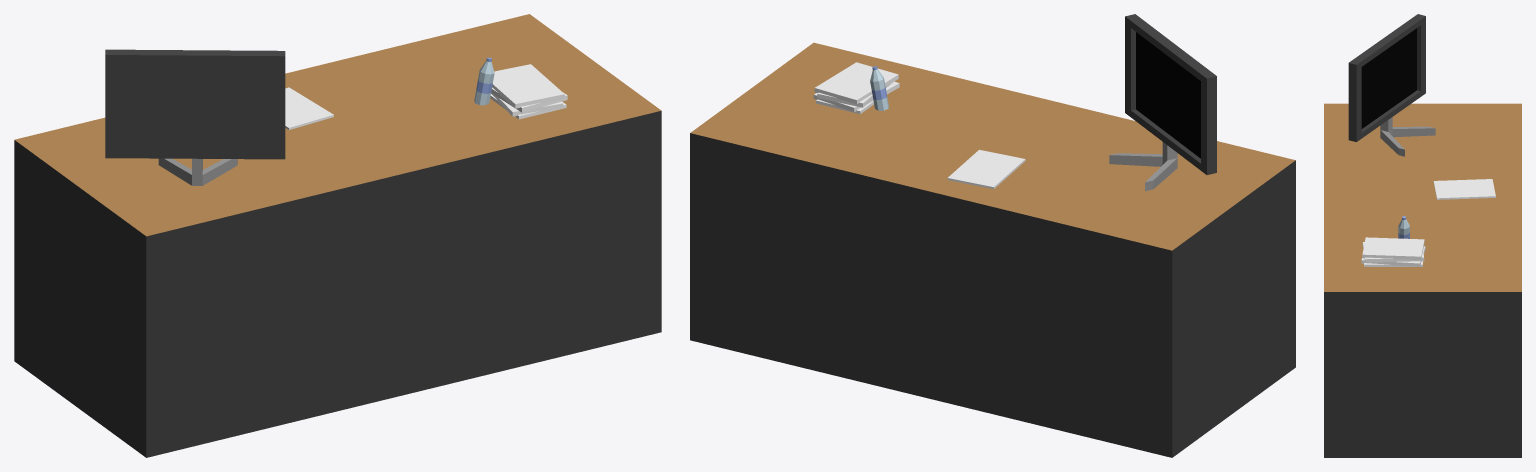
The model's file is tableteacher.fbx.
3 renders of one model, left to right at view 1: azimuth 30°, elevation 25°; view 2: azimuth 150°, elevation 25°; view 3: azimuth 270°, elevation 25°, orthographic. The views are drawn at different scales.
Parts seen in each view (by area): view 1: Cube; view 2: Cube; view 3: Cube.
Boxes of the visible parts, bbox=[...] form: Cube: bbox=[14, 14, 661, 457]; Cube: bbox=[690, 14, 1295, 457]; Cube: bbox=[1324, 14, 1521, 457].
Size of the model in its own units: 245 by 160 by 109.
